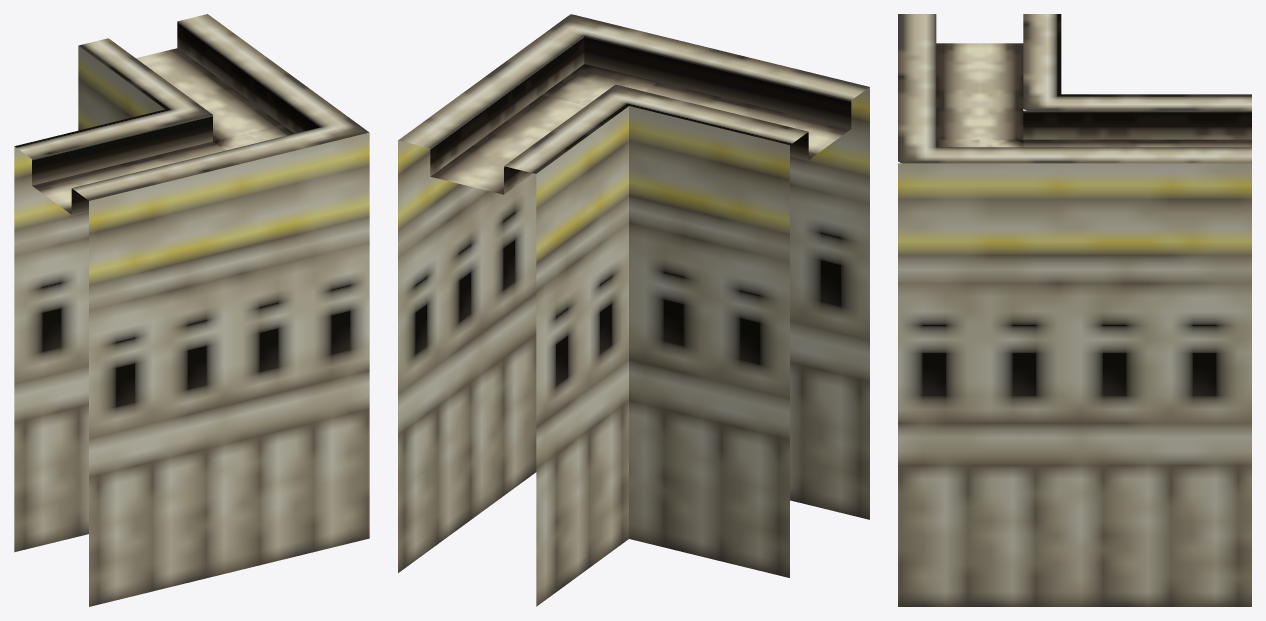
Rendered from Poly_World_Map_Wall_03.obj.
3 views of the same model, side by side, from view 1: azimuth 30°, elevation 25°; view 2: azimuth 150°, elevation 25°; view 3: azimuth 270°, elevation 25° (orthographic). The views are drawn at different scales.
Parts seen in each view (by area): view 1: Grid.003; view 2: Grid.003; view 3: Grid.003.
Boxes of the visible parts, x1,y1,x2,y2 form: Grid.003: [14, 14, 369, 606]; Grid.003: [398, 14, 869, 606]; Grid.003: [898, 14, 1251, 606].
Size of the model in its own units: 0.65 by 0.8993 by 0.65.
Materials: 1 (1 with a texture image).
